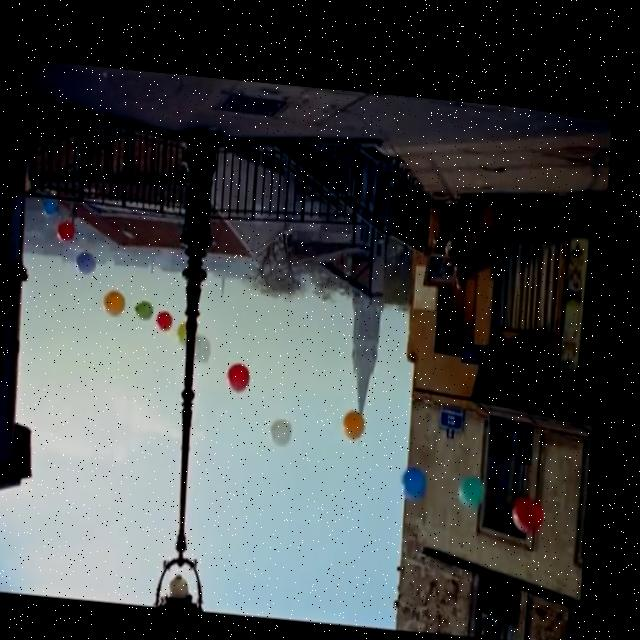balloon: (517, 484, 551, 524), (463, 463, 492, 499), (406, 457, 433, 493), (231, 357, 255, 389), (348, 401, 371, 433), (275, 412, 298, 442), (106, 287, 129, 314), (198, 330, 217, 359), (78, 250, 100, 274), (60, 218, 78, 242), (179, 317, 193, 346), (138, 297, 158, 317), (161, 307, 177, 328), (45, 197, 61, 216)
